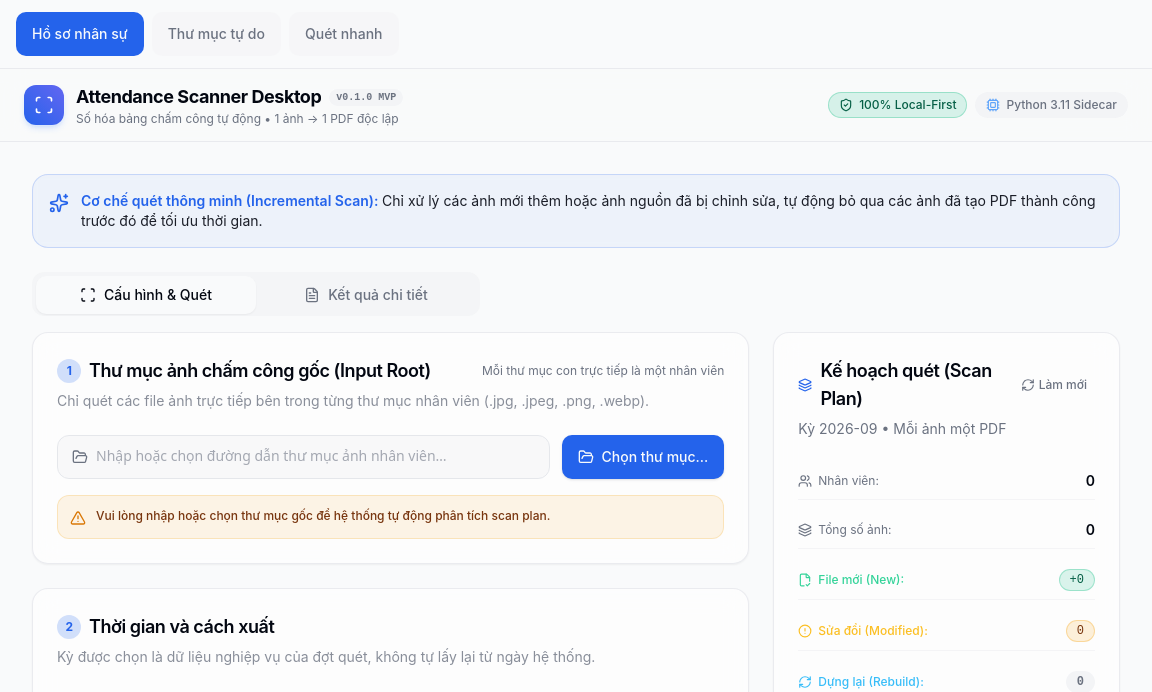
Test: QuickScanView › rejects unsupported native drag-drop files with a safe message
Click the tab "Quét nhanh": {"x": 344, "y": 34} left=289, top=12, right=398, bottom=56
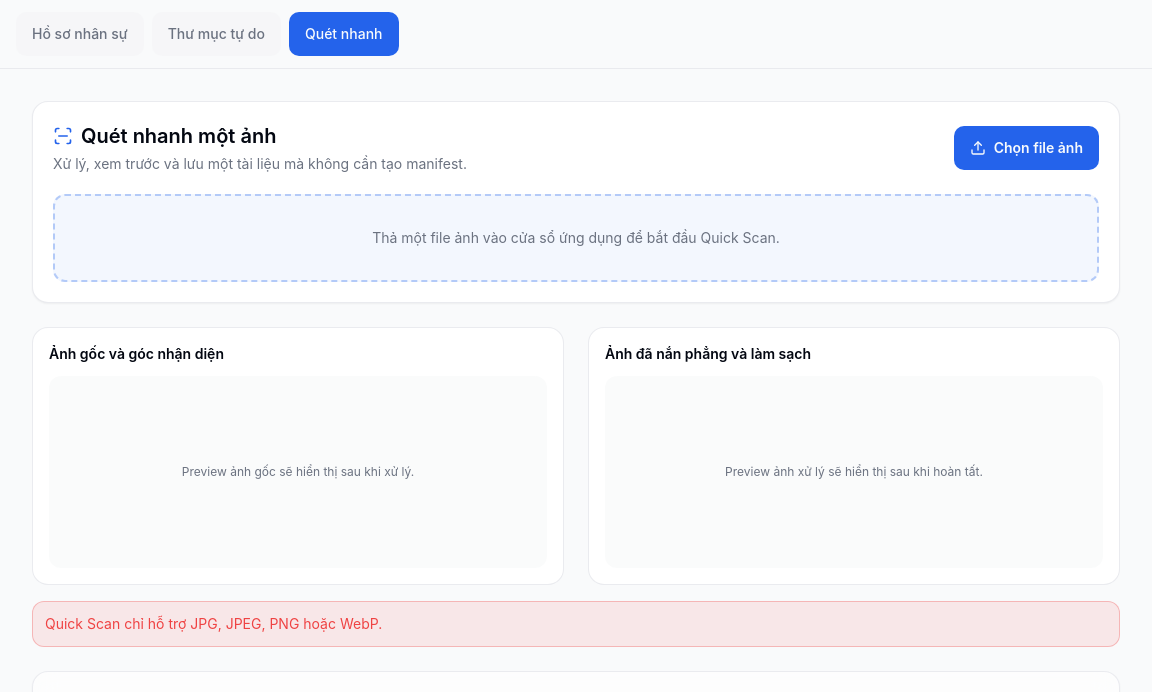
Expected: the message reads "Quick Scan chỉ hỗ trợ JPG, JPEG, PNG hoặc WebP.", left=45, top=615, right=382, bottom=632
